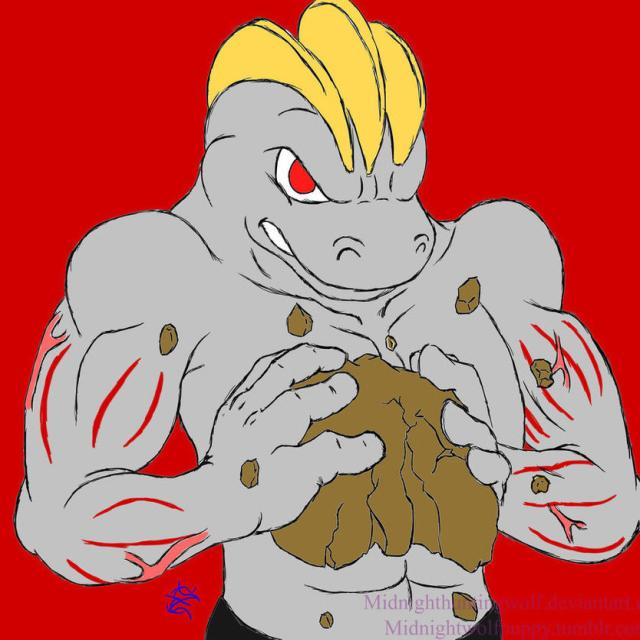Machoke: (27, 0, 640, 640)
